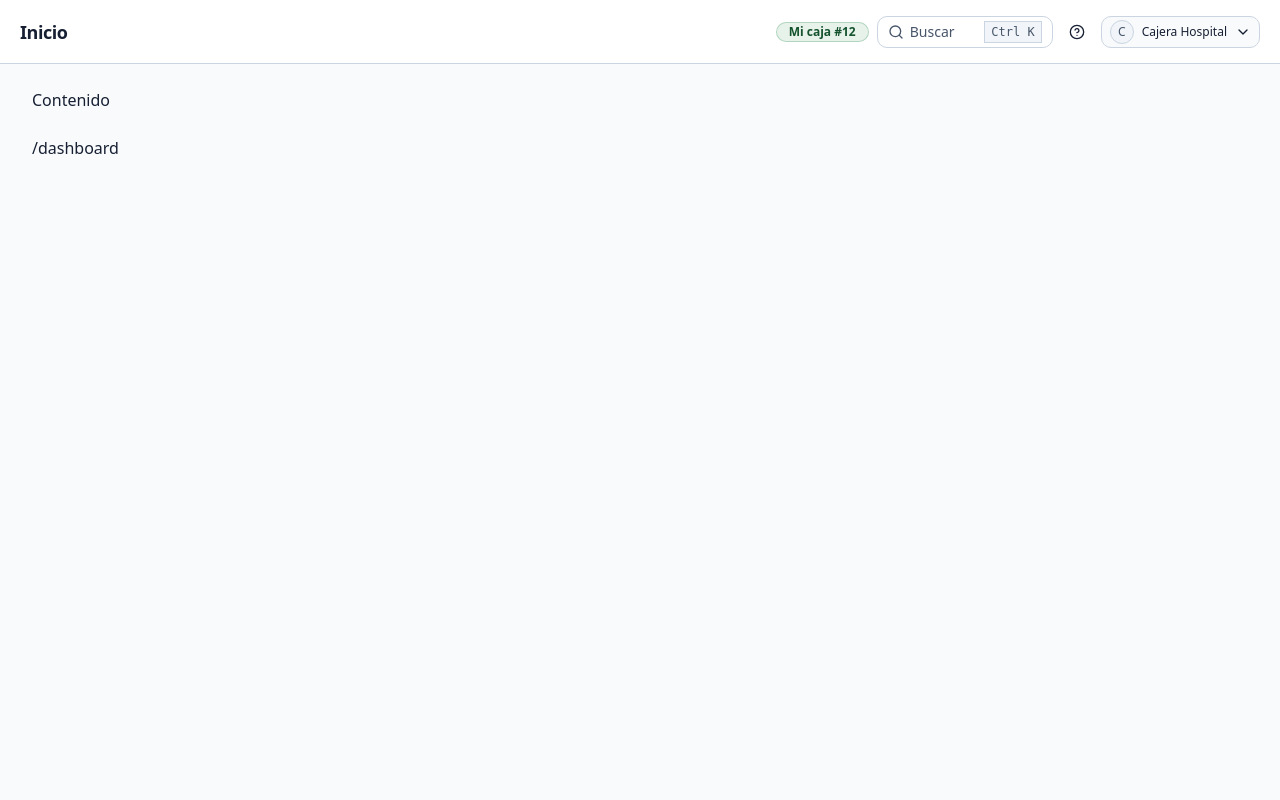
Test: InstitutionalShell › navega al elegir un comando y cierra la paleta
Press k
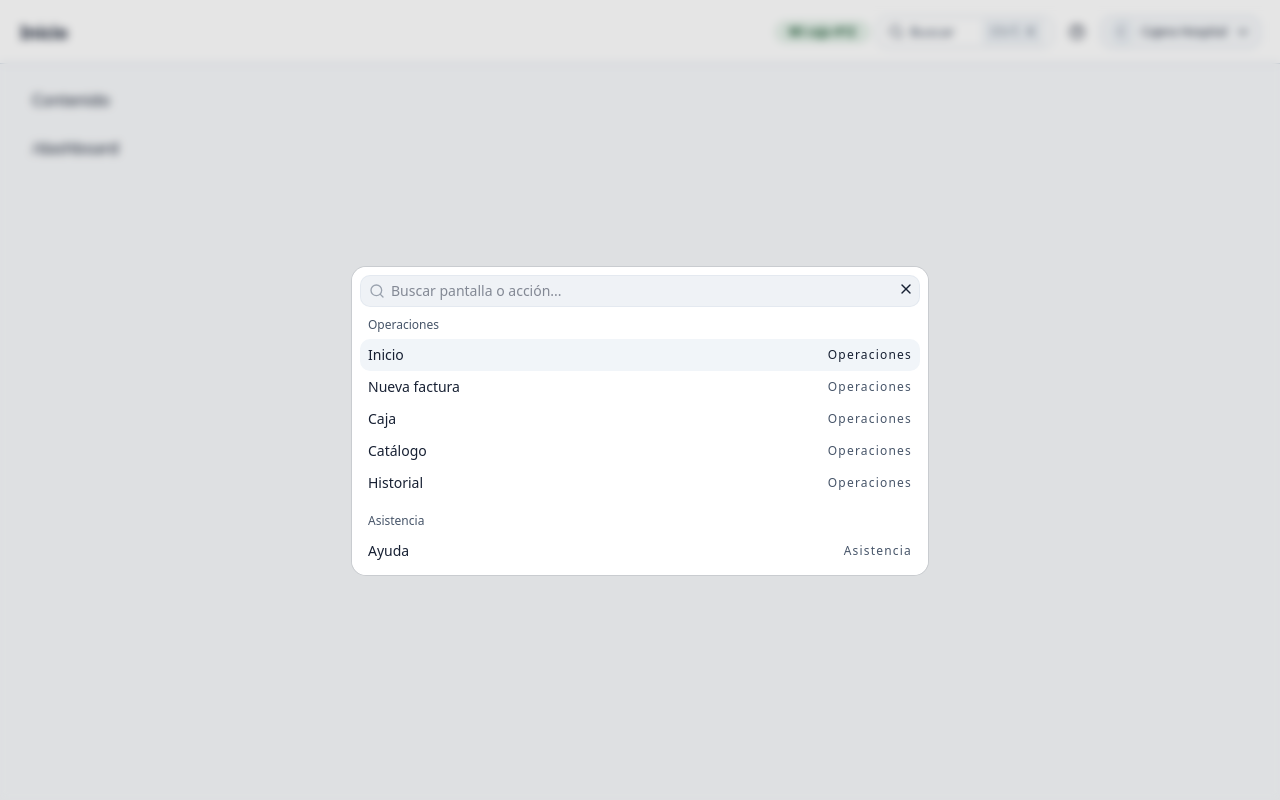
Click the text "Catálogo" at [397, 451], box [368,441,427,461]
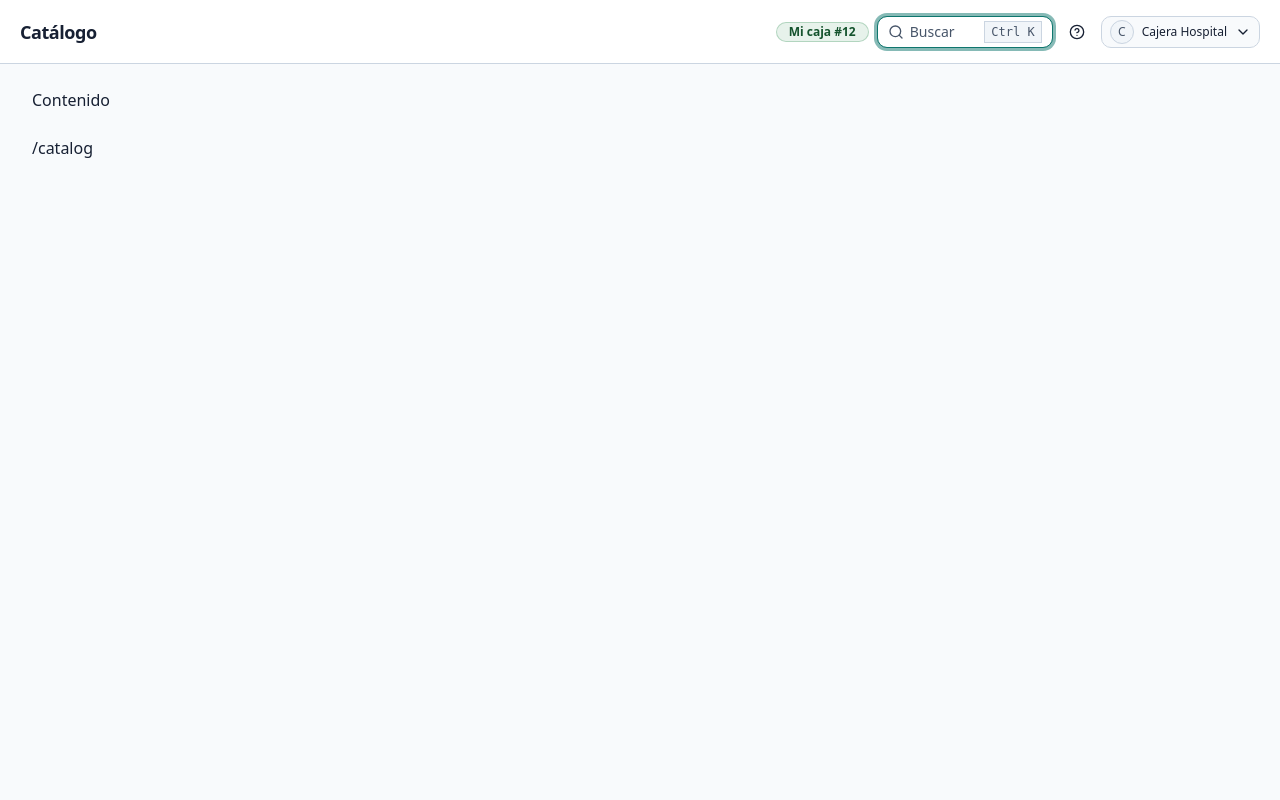
Expected: the dialog "Comandos" is not shown
Expected: the text named "Ruta de prueba" reads "/catalog", [32,137,93,159]
